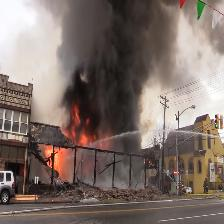smoke: (78, 1, 146, 136)
